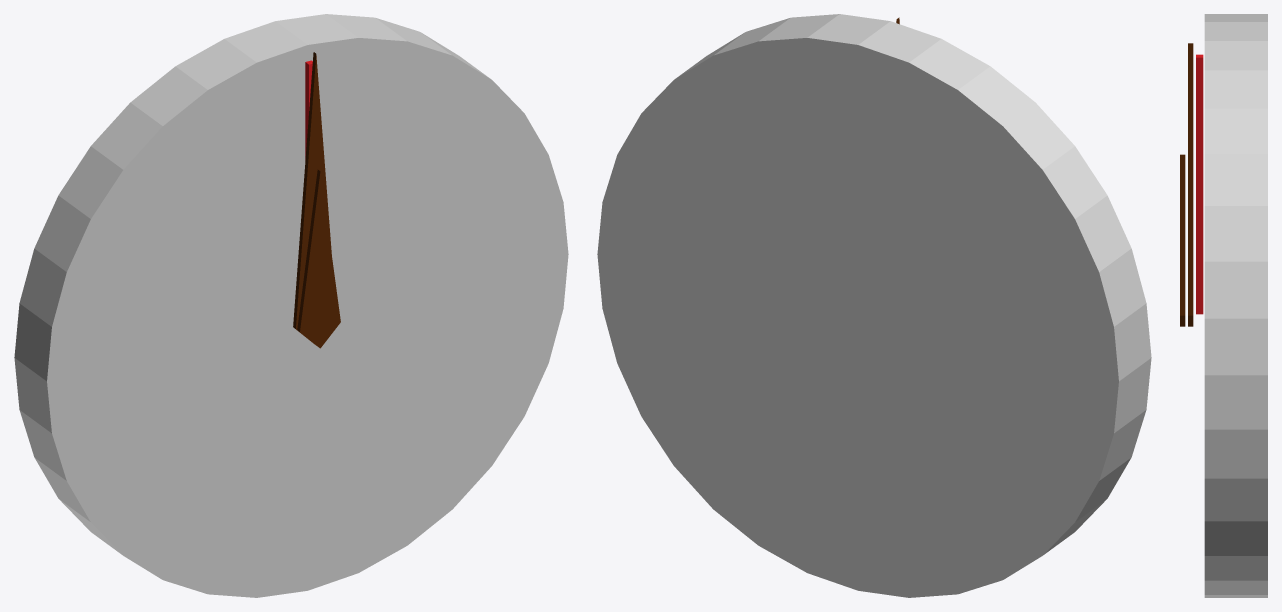
Rendered from clockFace.glb.
The picture shows the model from 3 angles, left to right: view 1: azimuth 30°, elevation 25°; view 2: azimuth 150°, elevation 25°; view 3: azimuth 270°, elevation 25°; orthographic projection. The views are drawn at different scales.
Visible parts, largest first — view 1: Cylinder, hourHand, minuteHand; view 2: Cylinder; view 3: Cylinder, secondHand, minuteHand, hourHand.
Part boxes in pixels (left/top/right/bottom): Cylinder: left=14, top=14, right=568, bottom=597; hourHand: left=297, top=169, right=340, bottom=348; minuteHand: left=293, top=52, right=331, bottom=344; Cylinder: left=597, top=14, right=1151, bottom=597; Cylinder: left=1204, top=14, right=1267, bottom=597; secondHand: left=1196, top=54, right=1203, bottom=314; minuteHand: left=1188, top=43, right=1193, bottom=326; hourHand: left=1180, top=154, right=1185, bottom=326.
Size of the model in its own units: 0.4338 by 0.4338 by 0.0652.
